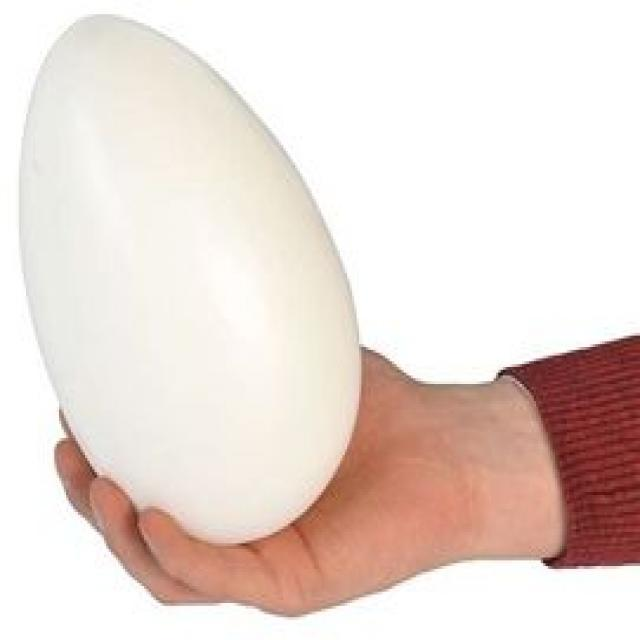Egg: (10, 4, 362, 546)
